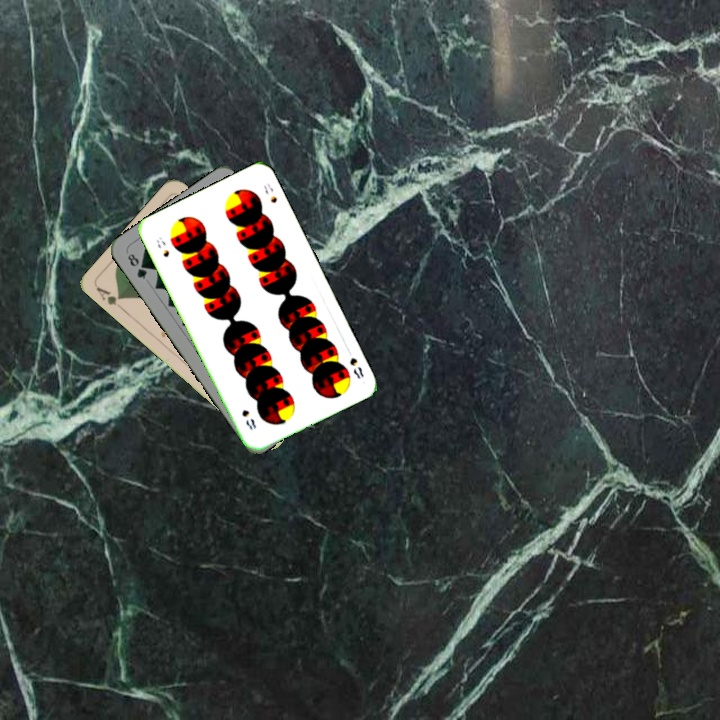G8: (123, 249, 150, 282)
GA: (92, 283, 126, 313)
S8: (345, 353, 366, 382), (152, 233, 172, 260)
